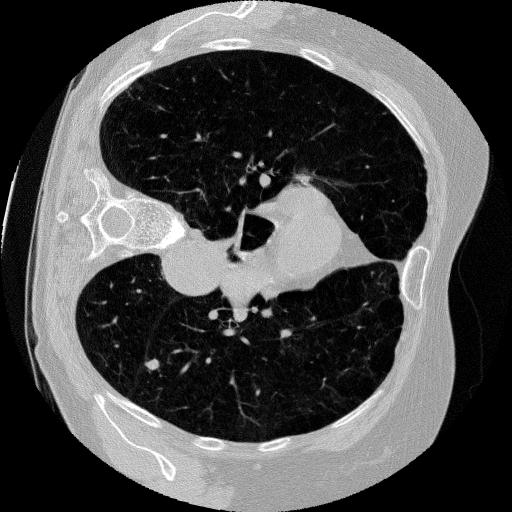nodule: (144, 355, 164, 375)
